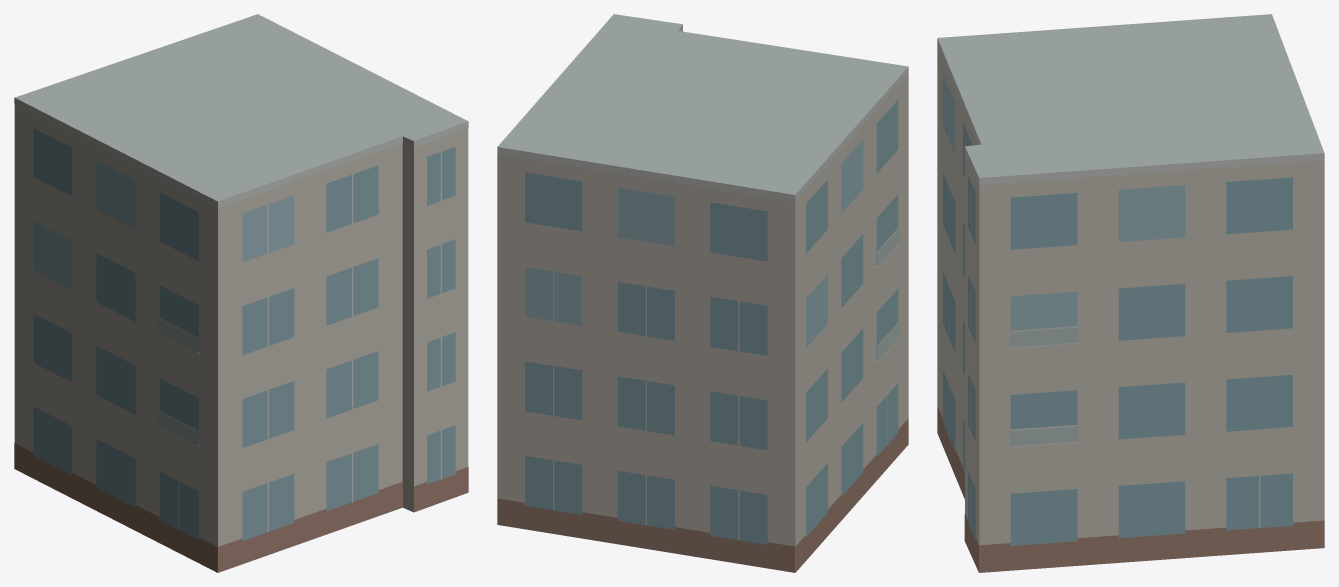
File: survey-upis-32718713.glb
3 renders of one model, left to right at view 1: azimuth 30°, elevation 25°; view 2: azimuth 150°, elevation 25°; view 3: azimuth 270°, elevation 25°, orthographic. The views are drawn at different scales.
Parts seen in each view (by area): view 1: survey-upis-32718713.tmp; view 2: survey-upis-32718713.tmp; view 3: survey-upis-32718713.tmp.
Part boxes in pixels (x1,y1,x2,y2): survey-upis-32718713.tmp: (14,14,468,572); survey-upis-32718713.tmp: (497,14,908,572); survey-upis-32718713.tmp: (937,14,1324,572).
Size of the model in its own units: 12.04 by 13.5 by 12.01.
